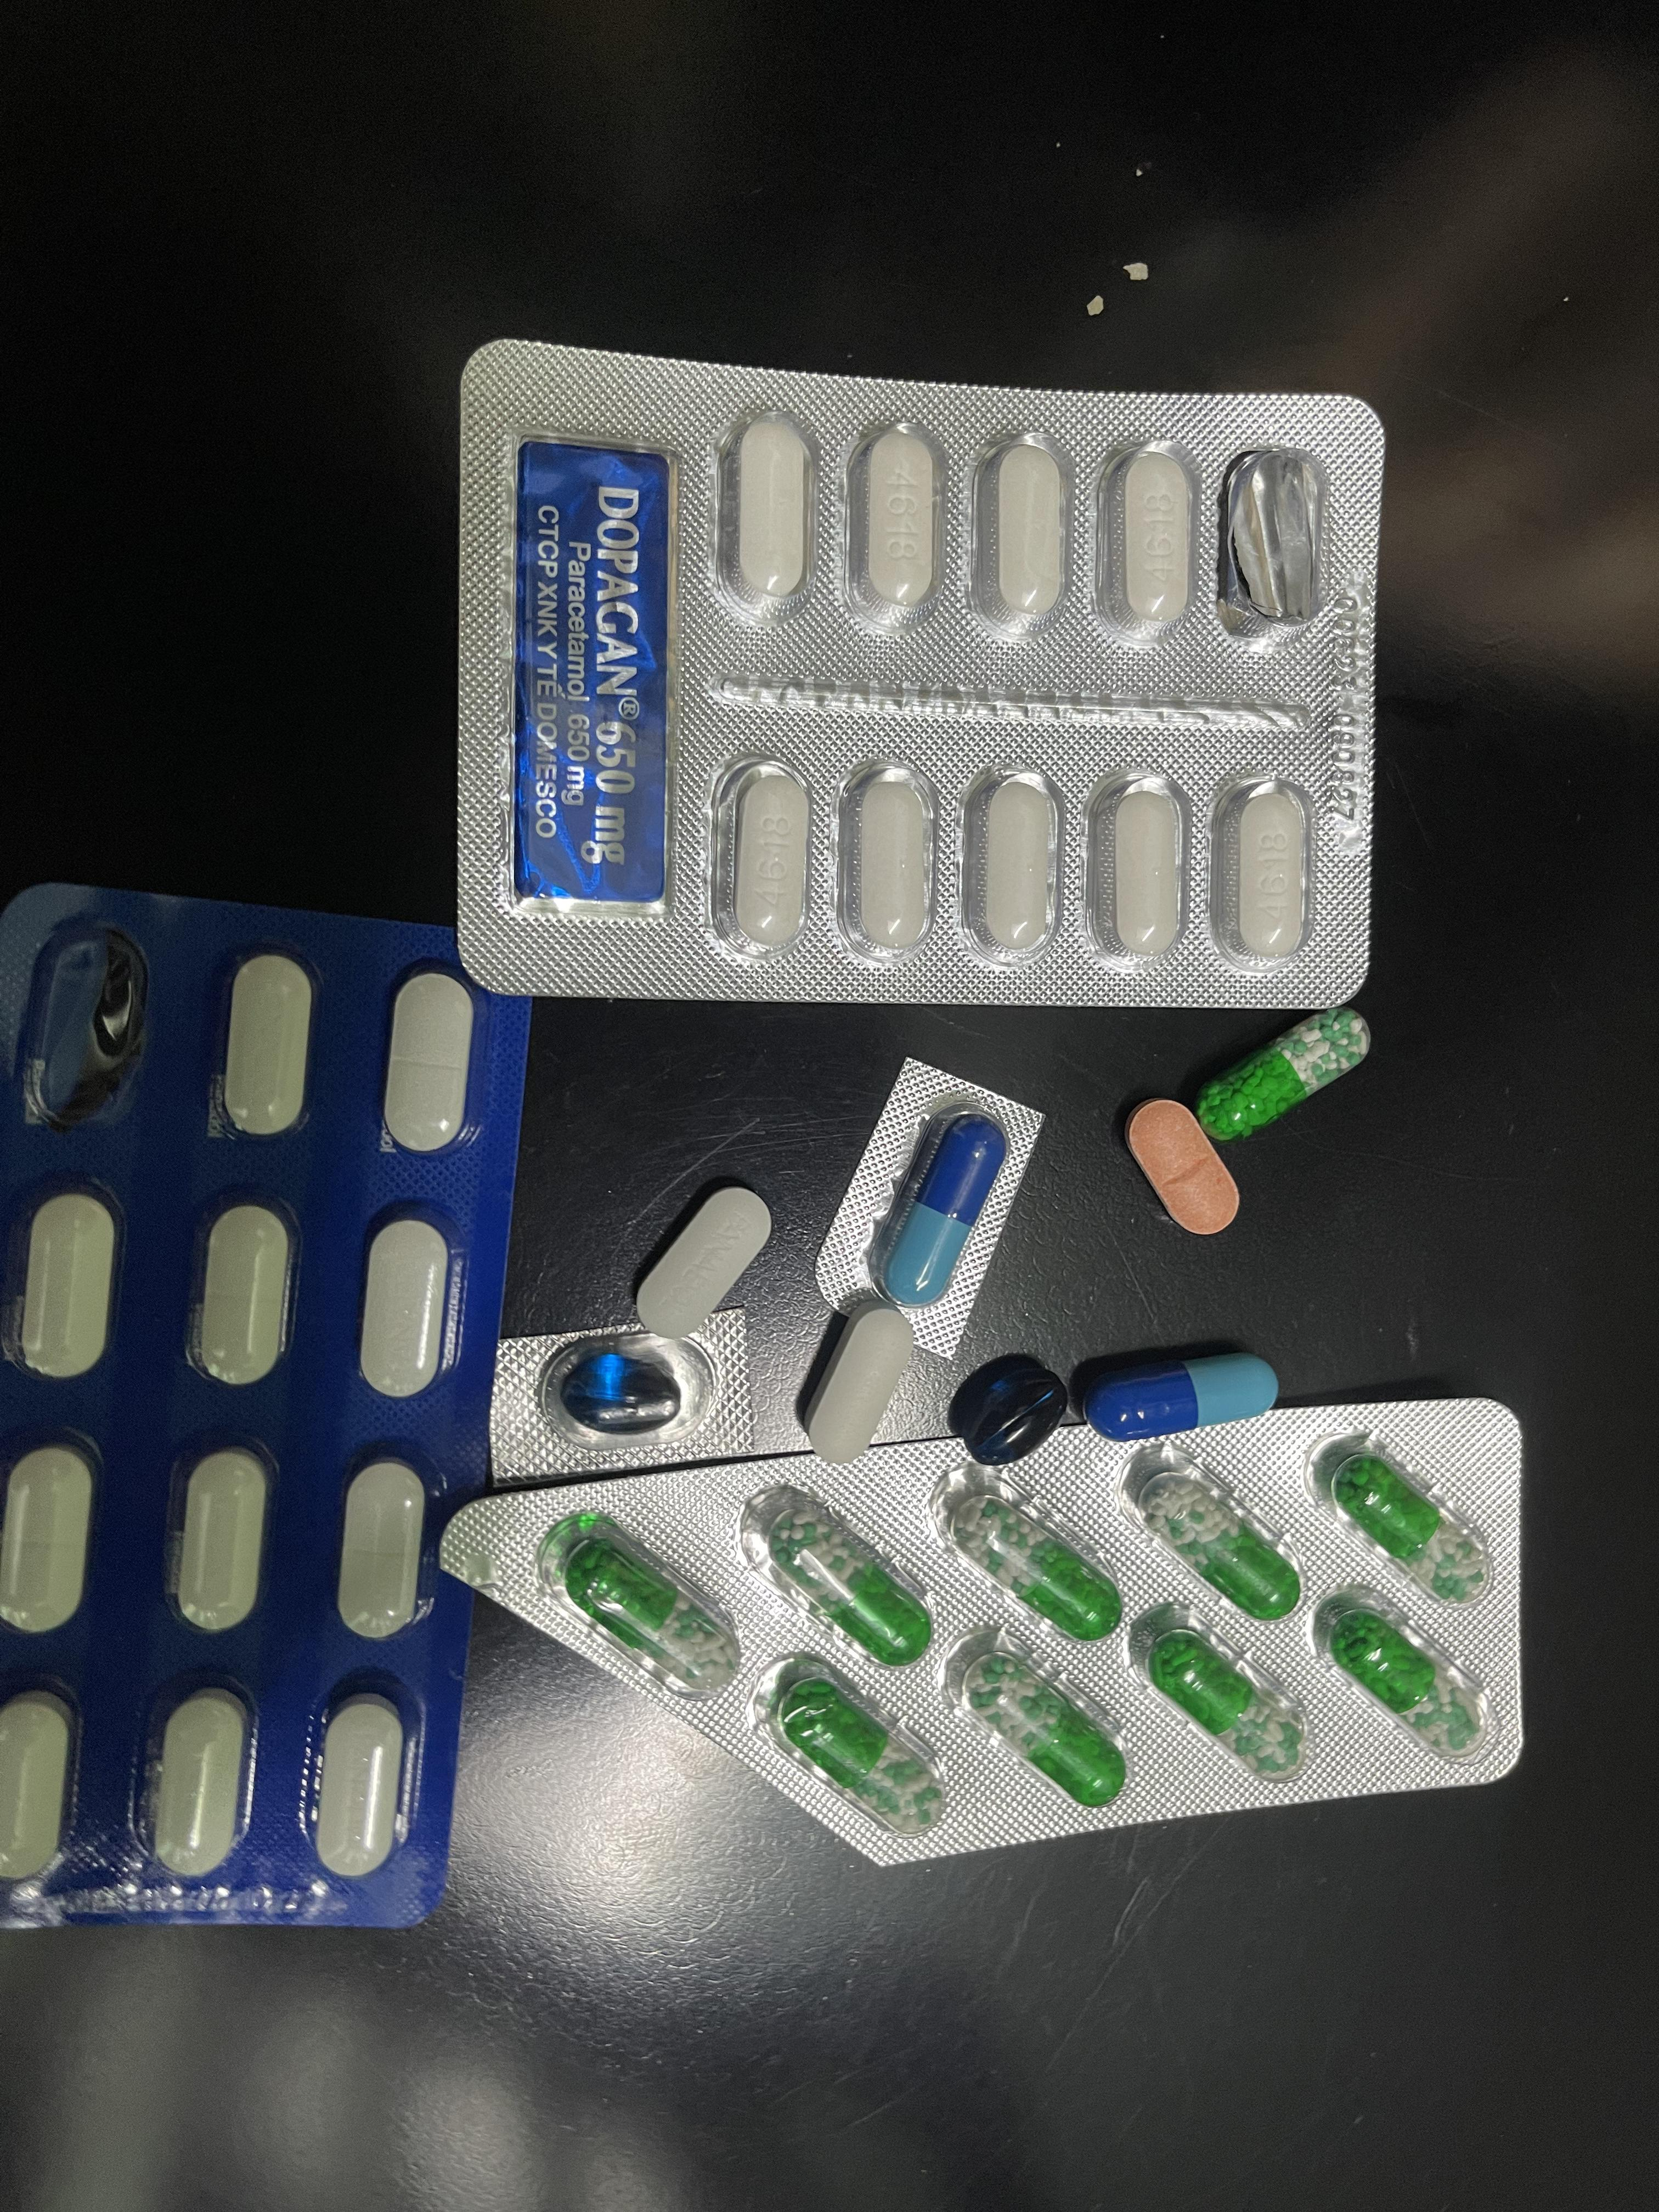Lincomyxin_500mg: (945, 1353, 1068, 1468), (559, 1350, 681, 1432)
Loratadine_10mg: (1126, 1099, 1241, 1235)
Paracetamol_350mg: (633, 1184, 774, 1343), (10, 1191, 122, 1386), (0, 1437, 101, 1637), (357, 1211, 464, 1400), (169, 1444, 275, 1634), (146, 1688, 251, 1878), (193, 1204, 296, 1388), (335, 1456, 434, 1639), (221, 954, 317, 1137), (314, 1696, 408, 1879), (383, 974, 479, 1153), (0, 1688, 77, 1886)
Paracetamol_500mg: (711, 411, 817, 624), (967, 434, 1075, 641), (843, 423, 950, 632), (1093, 441, 1202, 643), (711, 761, 816, 961), (962, 768, 1066, 967), (835, 763, 938, 963), (1086, 772, 1190, 968), (1211, 777, 1316, 965), (802, 1299, 917, 1465)
Paracetamol_650mg: (749, 1648, 948, 1838), (742, 1482, 934, 1665), (1314, 1581, 1502, 1766), (958, 1644, 1127, 1808), (565, 1531, 739, 1688), (1136, 1616, 1300, 1780), (951, 1484, 1126, 1637), (1140, 1475, 1305, 1623), (1335, 1453, 1490, 1602), (1194, 1010, 1371, 1141)
pill: (871, 1108, 1009, 1305), (1080, 1350, 1276, 1446)
